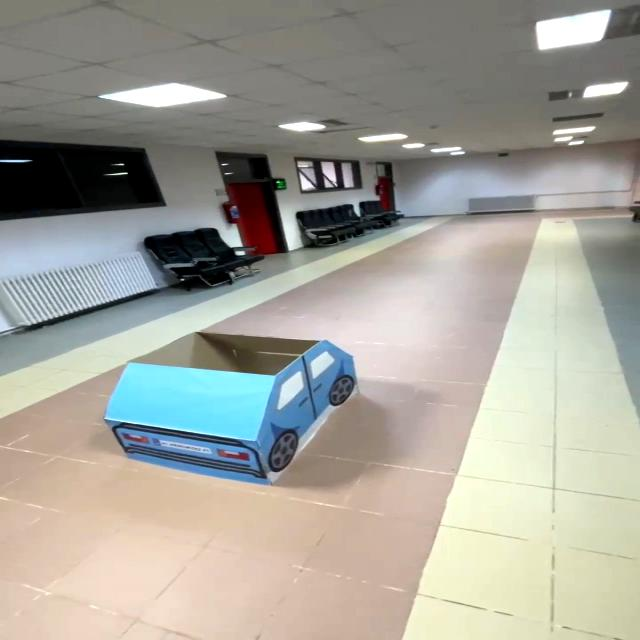blue_car: (84, 319, 383, 497)
